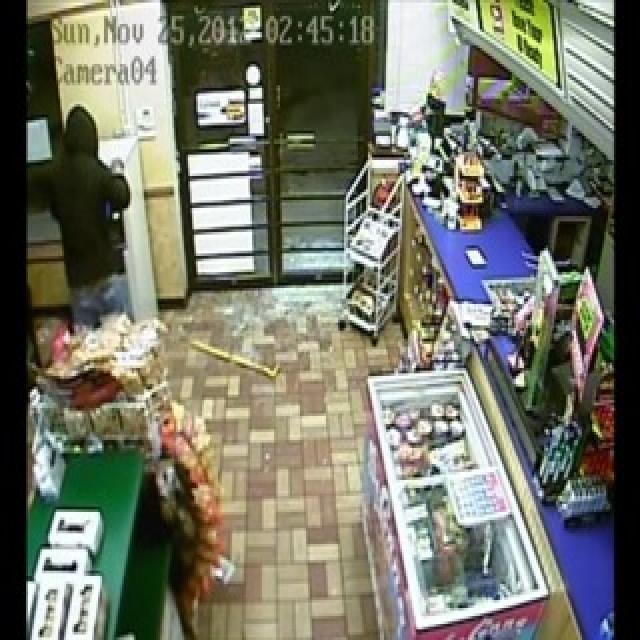thief: (46, 103, 134, 319)
